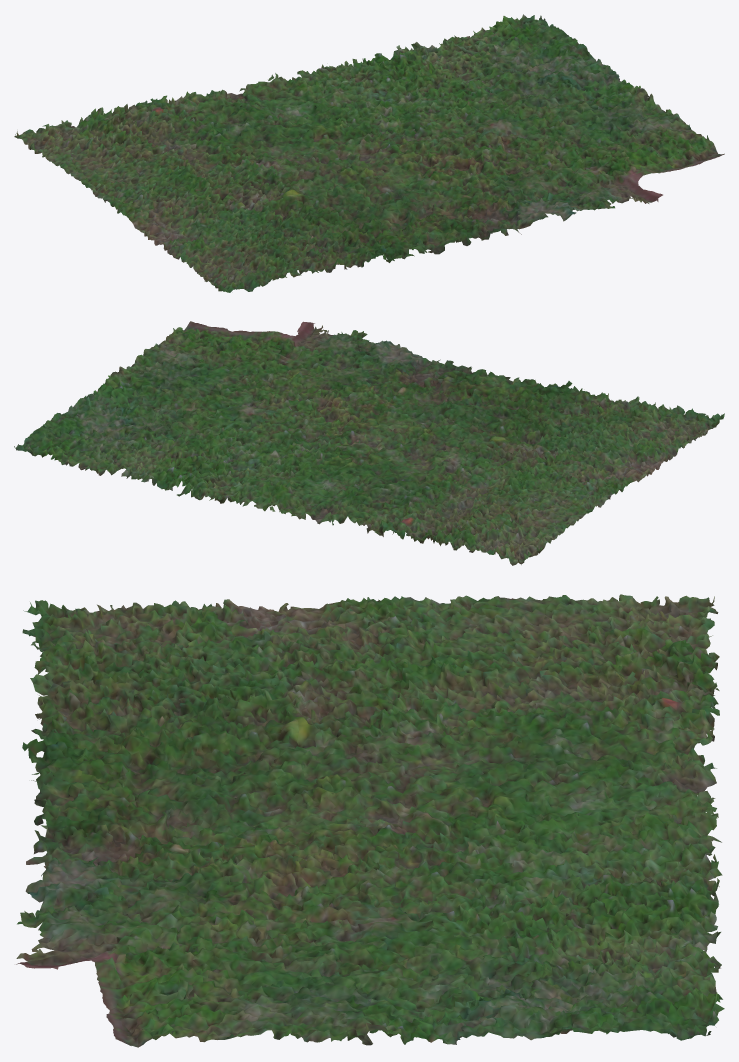
File: grass.glb
3 renders of one model, top to bottom at view 1: azimuth 30°, elevation 25°; view 2: azimuth 150°, elevation 25°; view 3: azimuth 270°, elevation 25°, orthographic. The views are drawn at different scales.
Visible parts, largest first — view 1: Model_material0_0.003; view 2: Model_material0_0.003; view 3: Model_material0_0.003.
Part boxes in pixels (x1,y1,x2,y2): Model_material0_0.003: (14,14,724,292); Model_material0_0.003: (14,321,724,565); Model_material0_0.003: (16,594,724,1047).
Size of the model in its own units: 93.8 by 5.73 by 67.42.
1 material, 1 textured.
